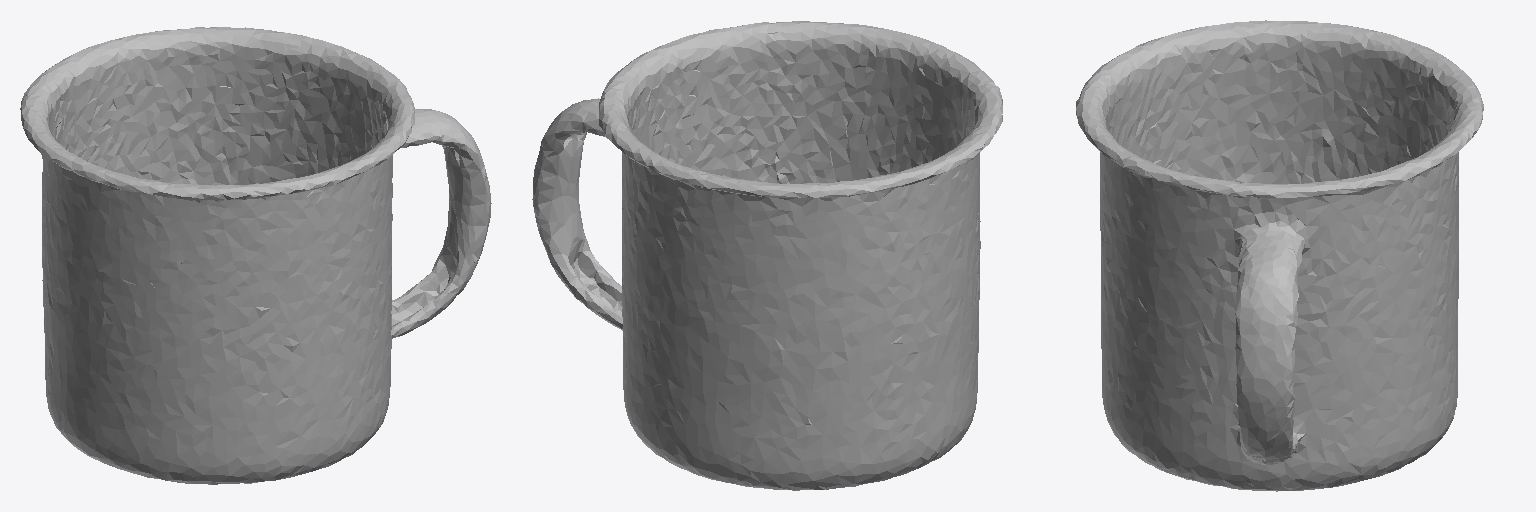
The robot description file, URDF, robot "root":
<?xml version="1.0"?>
<robot name="root">
  <link name="base_link">
    <visual>
      <origin xyz="0 0 0" rpy="0 0 0" />
      <geometry>
        <mesh filename="025_mug.stl" scale="1.0000E+00 1.0000E+00 1.0000E+00" />
      </geometry>
      <material name="">
        <color rgba="7.50E-01 7.50E-01 7.50E-01 1" />
      </material>
    </visual>
    <collision>
      <origin xyz="0 0 0" rpy="0 0 0" />
      <geometry>
        <mesh filename="025_mug.stl" scale="1.0000E+00 1.0000E+00 1.0000E+00" />
      </geometry>
    </collision>
  </link>
</robot>

--- Render facts (derived) ---
Views: 3 orthographic renders of the robot side by side, from view 1: azimuth 30°, elevation 25°; view 2: azimuth 150°, elevation 25°; view 3: azimuth 270°, elevation 25°.
Model root with 1 links and 0 joints (none), rooted at base_link, posed every joint at zero.
Links seen in each view (by area): view 1: base_link; view 2: base_link; view 3: base_link.
Link boxes in pixels (box(x1,y1,x2,y2)): base_link: box(20, 27, 491, 484); base_link: box(532, 21, 1002, 490); base_link: box(1076, 20, 1483, 491).
Bounding box of the posed robot: 0.117 × 0.0931 × 0.0813 m (x, y, z).
Meshes: 1 distinct files referenced, 1 mesh visuals loaded (1 binary STL).